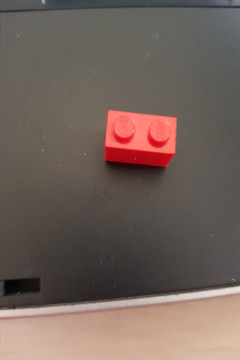1x2 red: (104, 107, 177, 173)
